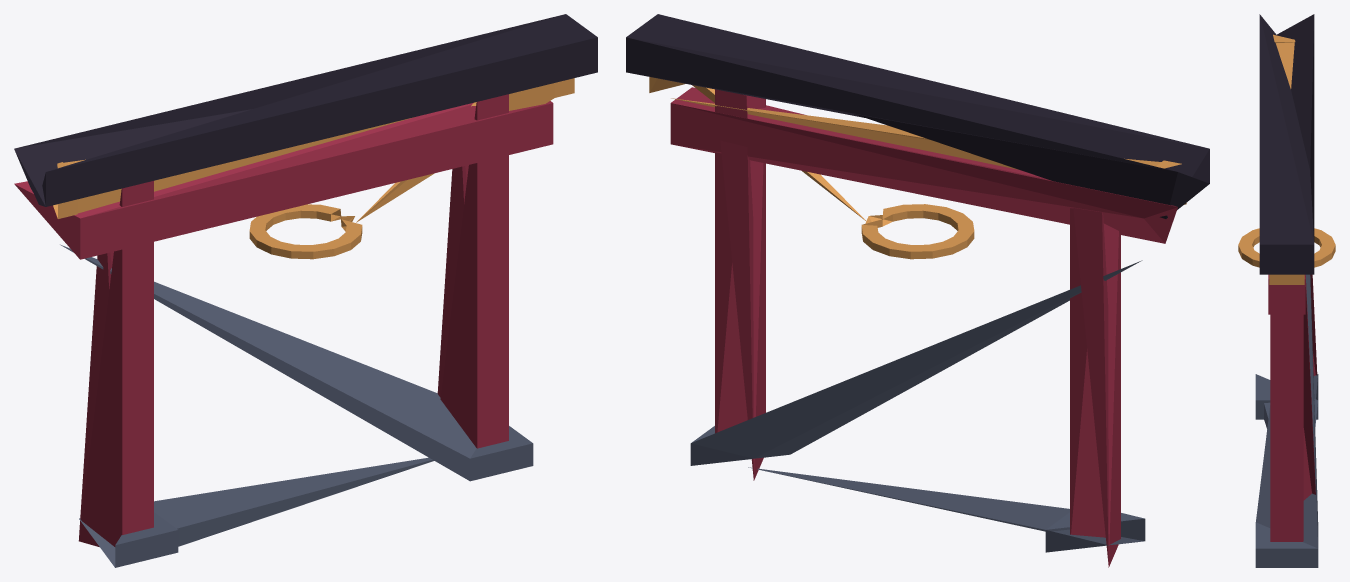
Rendered from moonfall_ritual_gate.obj.
The picture shows the model from 3 angles, left to right: view 1: azimuth 30°, elevation 25°; view 2: azimuth 150°, elevation 25°; view 3: azimuth 270°, elevation 25°; orthographic projection. The views are drawn at different scales.
Parts seen in each view (by area): view 1: moonfall_ritual_gate; view 2: moonfall_ritual_gate; view 3: moonfall_ritual_gate.
Boxes of the visible parts, <box> form: moonfall_ritual_gate: <box>14,14,597,567</box>; moonfall_ritual_gate: <box>626,14,1209,567</box>; moonfall_ritual_gate: <box>1238,14,1335,567</box>.
Bounding box in the file's own units: 14 × 9.95 × 2.5.
